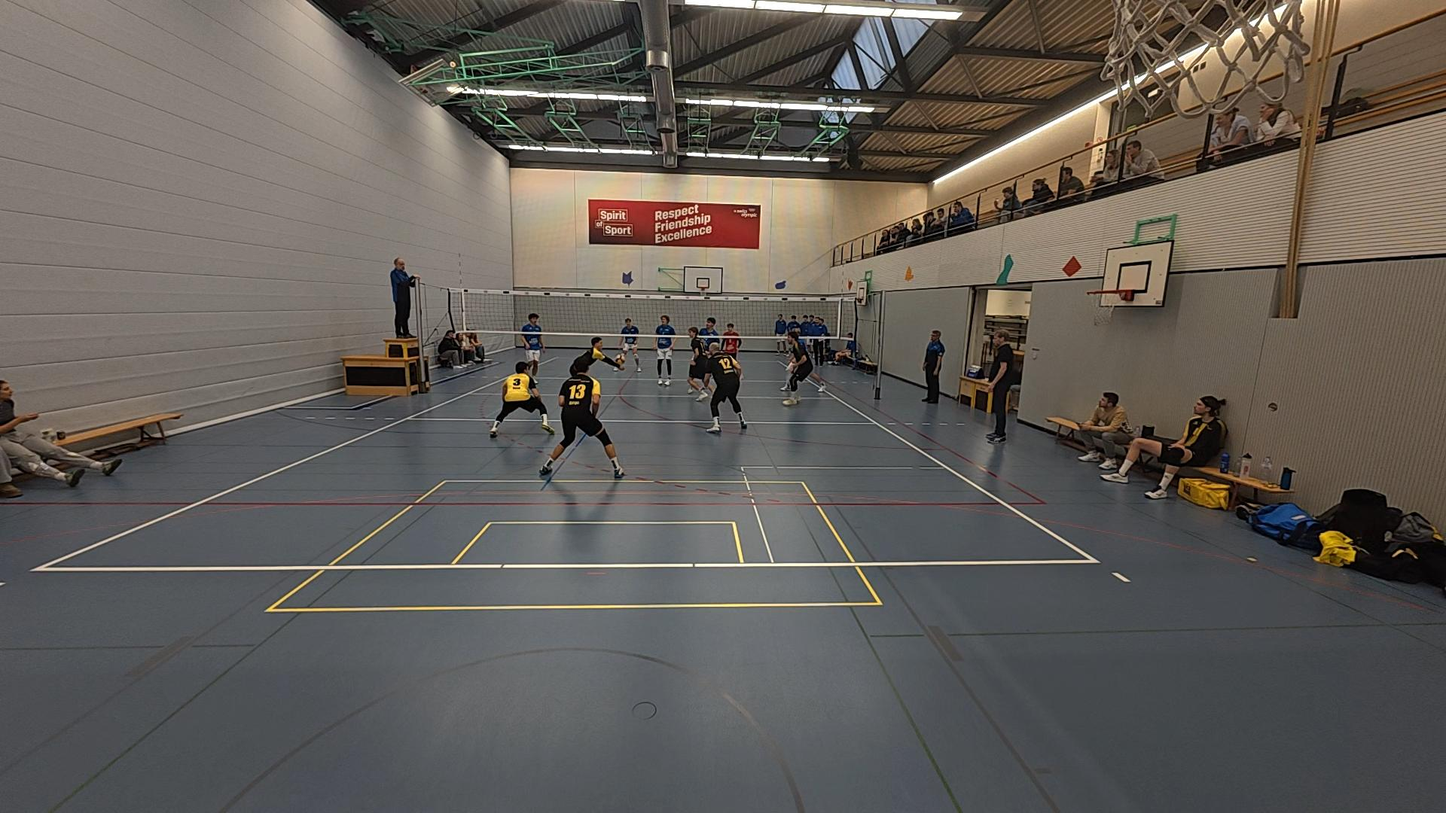Dig: (566, 335, 627, 376)
Player: (538, 359, 624, 479), (487, 360, 555, 437), (705, 348, 746, 434), (782, 333, 822, 407), (697, 318, 724, 402), (682, 321, 709, 400), (652, 313, 675, 385), (519, 312, 544, 376), (618, 314, 642, 369), (721, 321, 741, 361)
ball: (611, 349, 627, 371), (901, 265, 916, 280)
